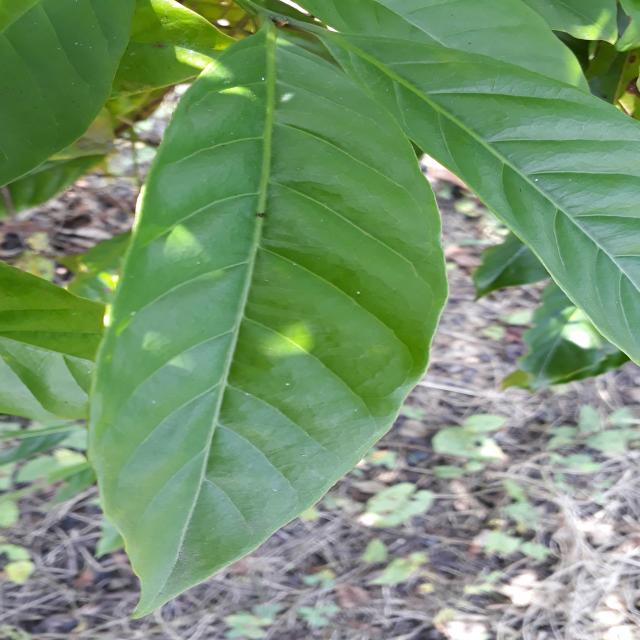Sanas: (86, 40, 448, 619)
